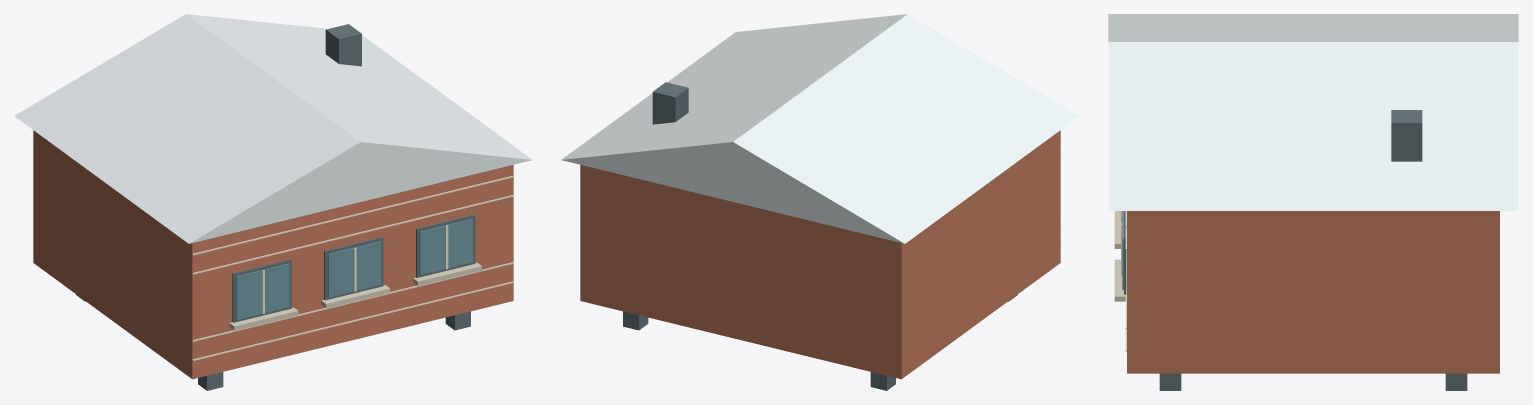
Rendered from polar-cabin.glb.
The picture shows the model from 3 angles, left to right: view 1: azimuth 30°, elevation 25°; view 2: azimuth 150°, elevation 25°; view 3: azimuth 270°, elevation 25°; orthographic projection. The views are drawn at different scales.
Bounding box in the file's own units: 7.5 × 4.85 × 6.6.
